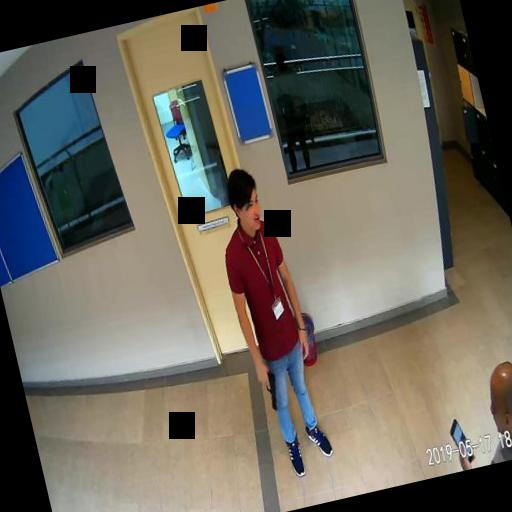Handgun: (257, 368, 281, 412)
